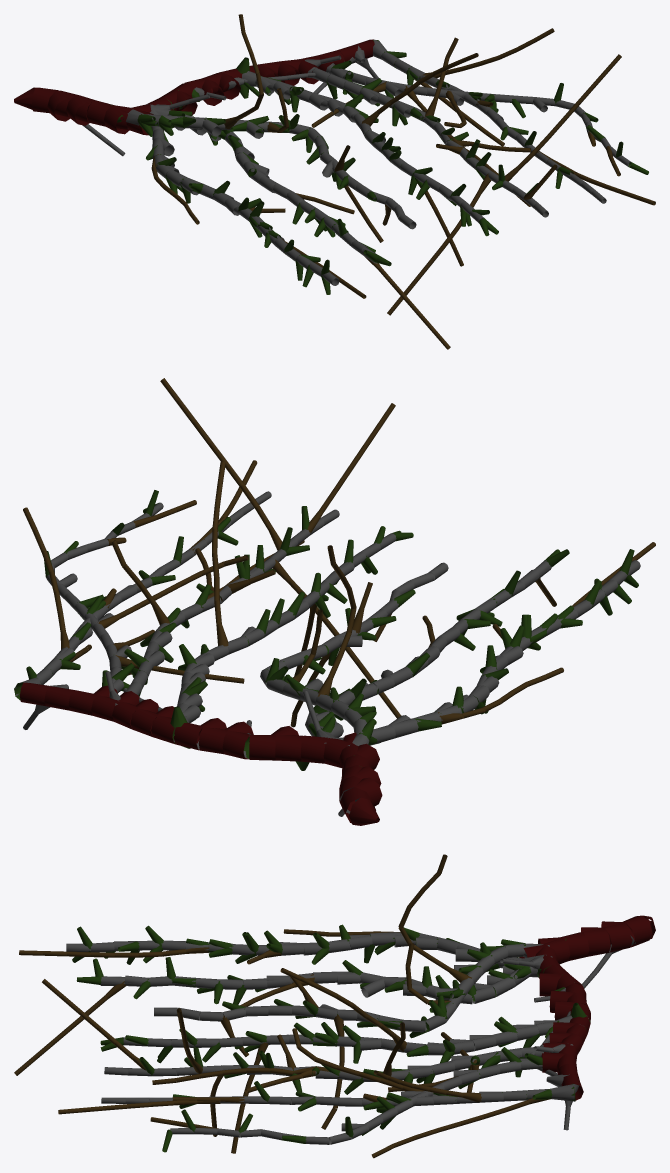
Rendered from tree_11.obj.
3 views of the same model, one above another, from view 1: azimuth 30°, elevation 25°; view 2: azimuth 150°, elevation 25°; view 3: azimuth 270°, elevation 25° (orthographic). The views are drawn at different scales.
Bounding box in the file's own units: 22.17 × 11.94 × 26.88.
